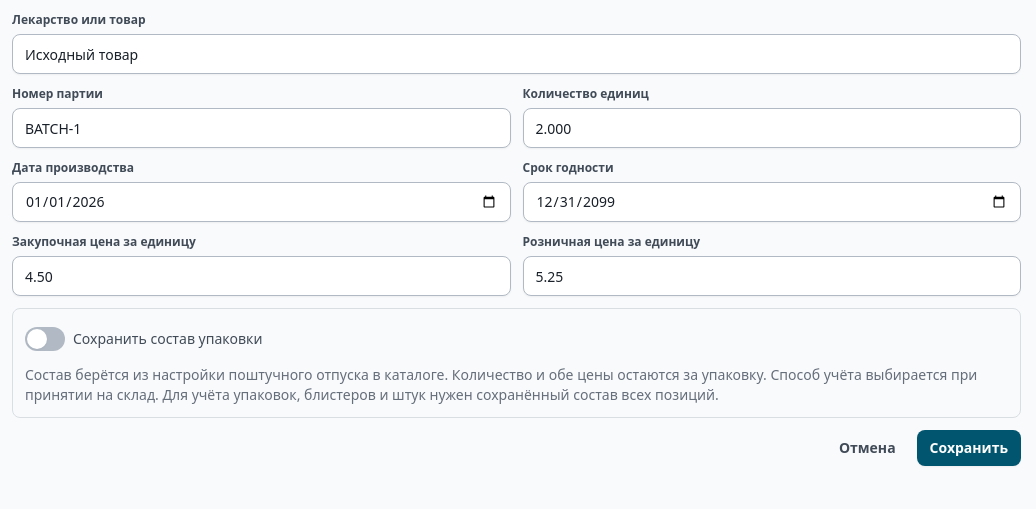
Test: Incoming saved-item packaging preparation › blocks fractional packs 2.5 when preparation is selected
Click the checkbox labelled "Сохранить состав упаковки" at (144, 339), box [25,321,262,357]
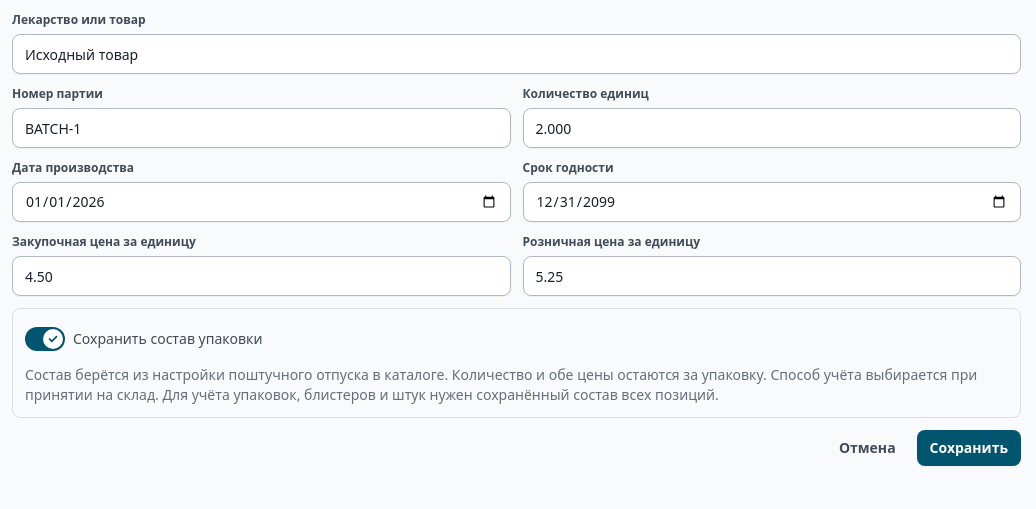
Replace the text in the field labelled "Количество единиц" with "2.5" at (772, 128), box [522,108,1021,148]
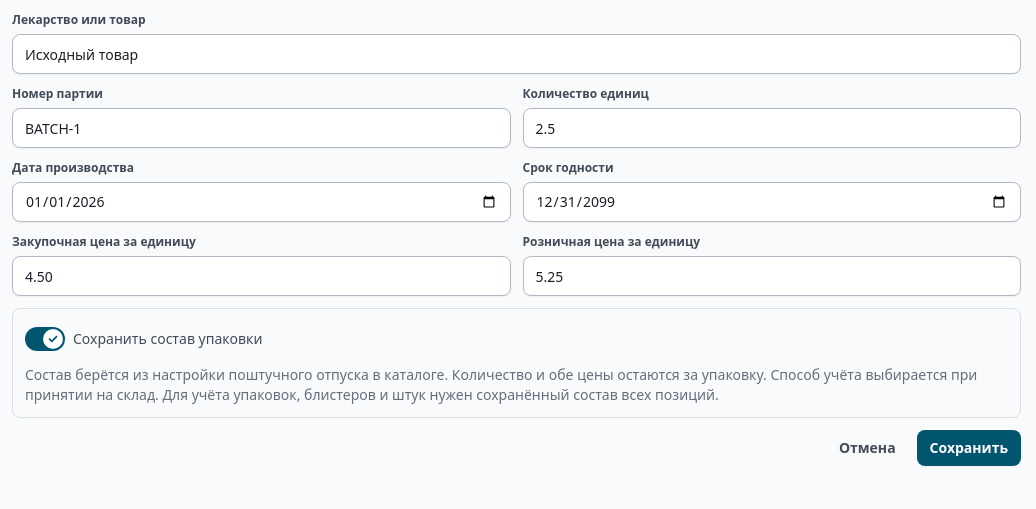
Click the button "Сохранить" at (969, 448), box [917,430,1021,466]
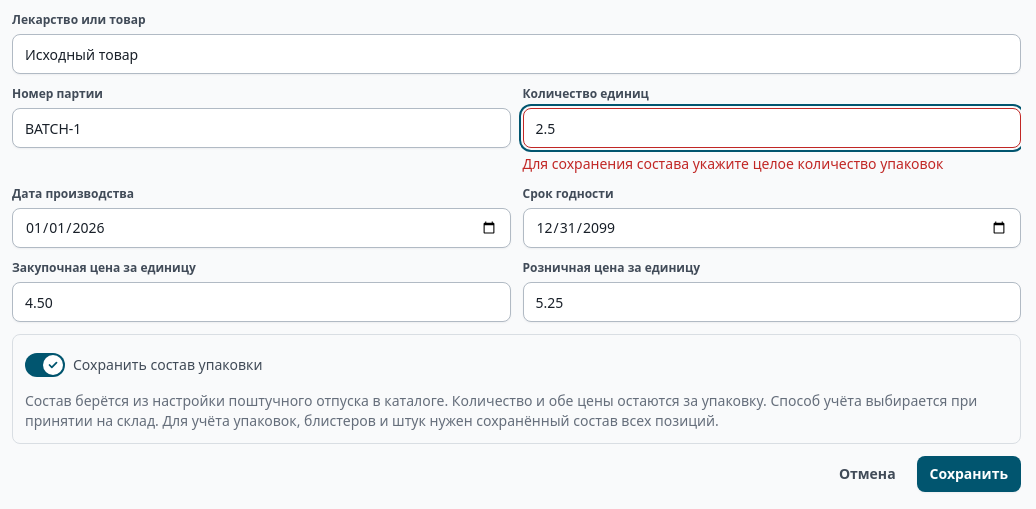
Now the text "Для сохранения состава укажите целое количество упаковок" is shown, box [522,154,944,173]
